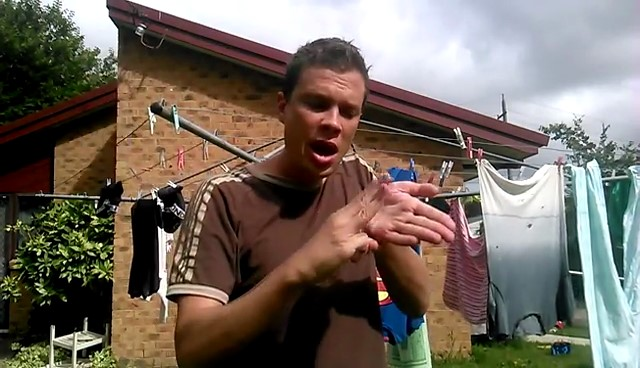M: (297, 172, 462, 283)
